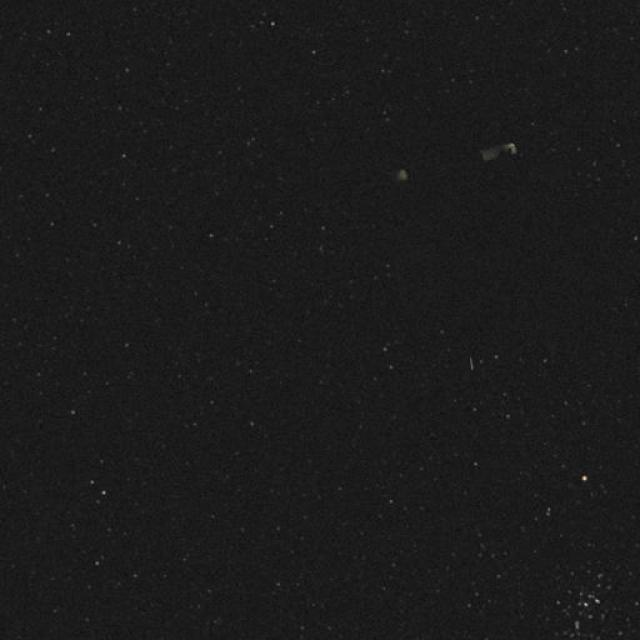proba_3_csc: (267, 112, 577, 332)
